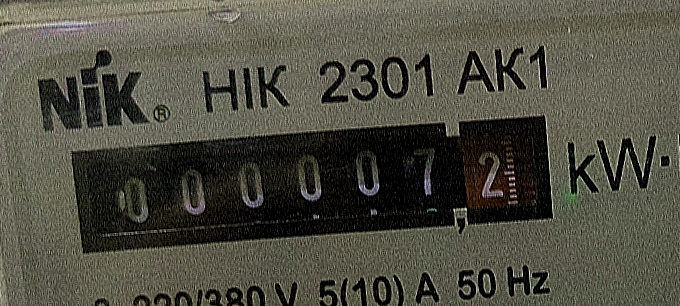0: (174, 163, 212, 218), (349, 145, 385, 200), (234, 156, 269, 211), (292, 149, 326, 205), (118, 172, 153, 225)
2: (473, 148, 508, 201)
7: (408, 142, 442, 199)
screen: (52, 95, 575, 274)
